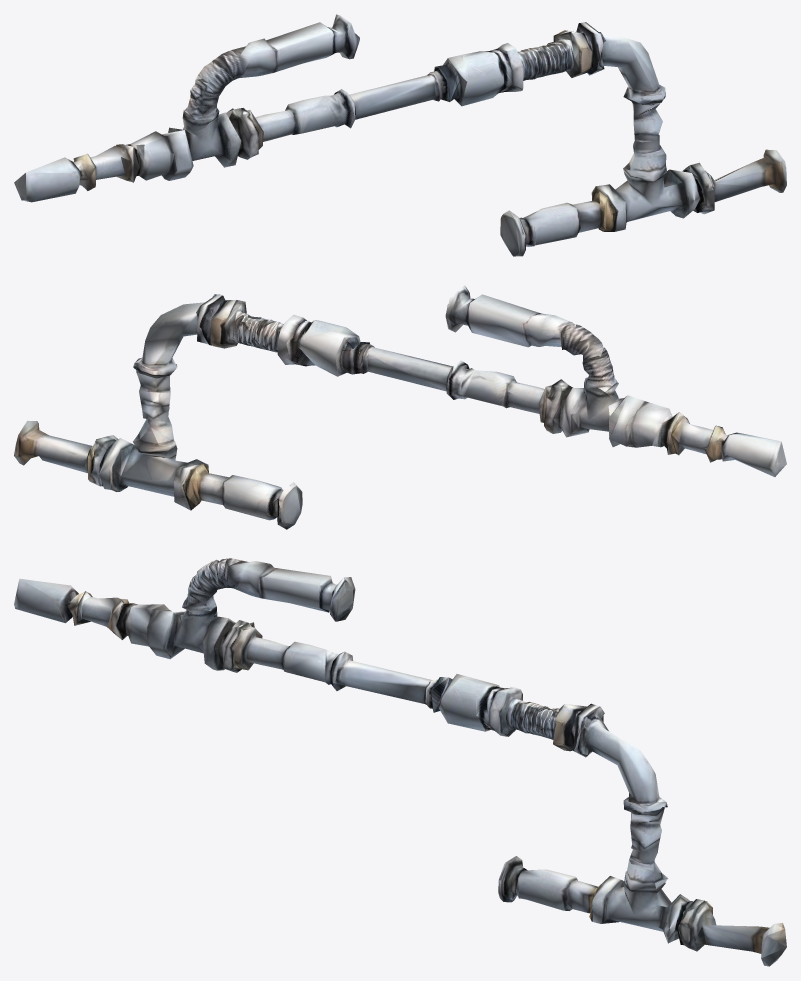
Rendered from hangar_pipe_long_a.glb.
3 renders of one model, top to bottom at view 1: azimuth 30°, elevation 25°; view 2: azimuth 150°, elevation 25°; view 3: azimuth 330°, elevation 25°, orthographic.
Visible parts, largest first — view 1: hangar_pipe_long_a; view 2: hangar_pipe_long_a; view 3: hangar_pipe_long_a.
Boxes of the visible parts, bbox=[...] form: hangar_pipe_long_a: bbox=[14, 14, 786, 256]; hangar_pipe_long_a: bbox=[14, 285, 786, 529]; hangar_pipe_long_a: bbox=[14, 558, 786, 966].
Size of the model in its own units: 0.7368 by 0.262 by 0.0475.
Materials: 1 (1 with a texture image).
